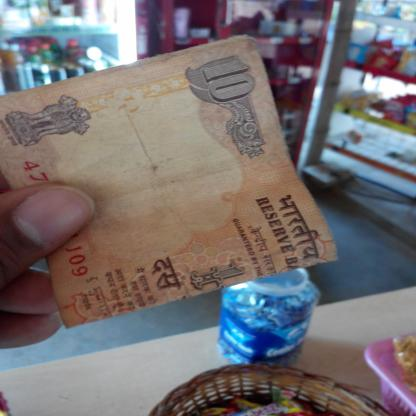Old10Front: (0, 34, 338, 331)
